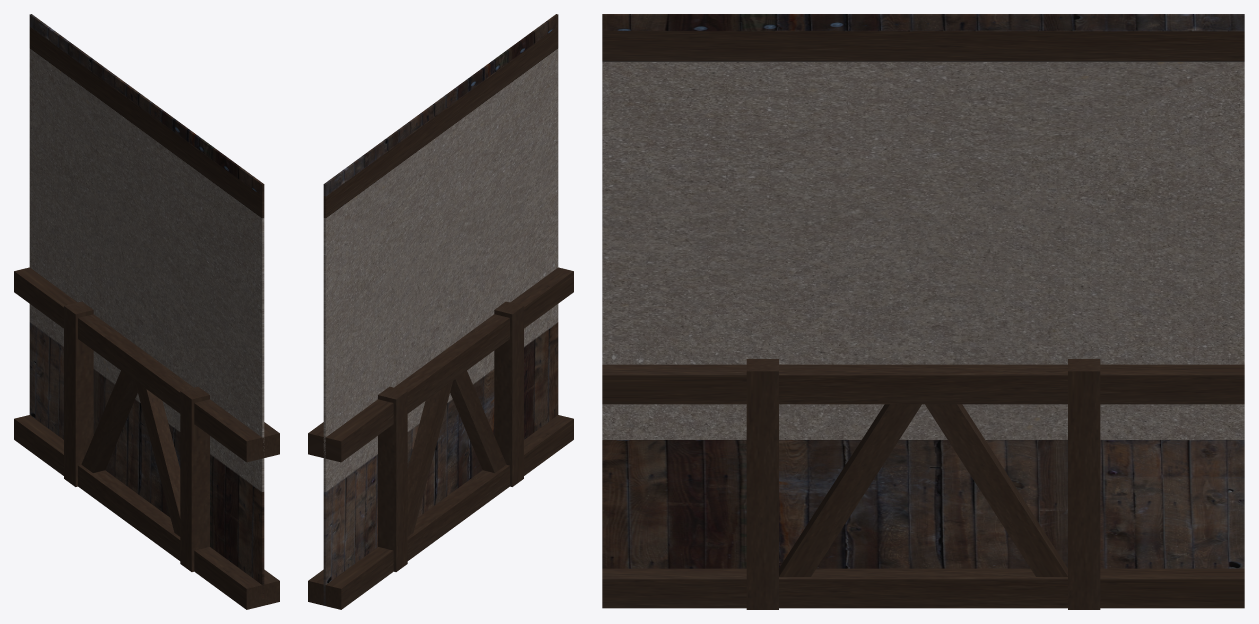
File: OutdoorArchitecture_BasicWall03_NoEdges_BShortt.fbx
The picture shows the model from 3 angles, left to right: view 1: azimuth 30°, elevation 25°; view 2: azimuth 150°, elevation 25°; view 3: azimuth 270°, elevation 25°; orthographic projection. The views are drawn at different scales.
Visible parts, largest first — view 1: OutdoorArchitecture_BasicWall03_NoEdges_BShortt; view 2: OutdoorArchitecture_BasicWall03_NoEdges_BShortt; view 3: OutdoorArchitecture_BasicWall03_NoEdges_BShortt.
Part boxes in pixels (x1,y1,x2,y2): OutdoorArchitecture_BasicWall03_NoEdges_BShortt: (14, 14, 279, 609); OutdoorArchitecture_BasicWall03_NoEdges_BShortt: (308, 14, 573, 609); OutdoorArchitecture_BasicWall03_NoEdges_BShortt: (602, 14, 1244, 609).
Size of the model in its own units: 28.5 by 300 by 300.
